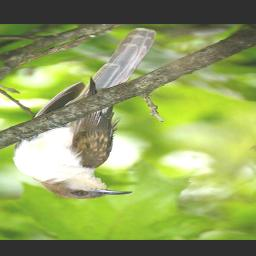Cuckoo: (9, 28, 158, 200)
